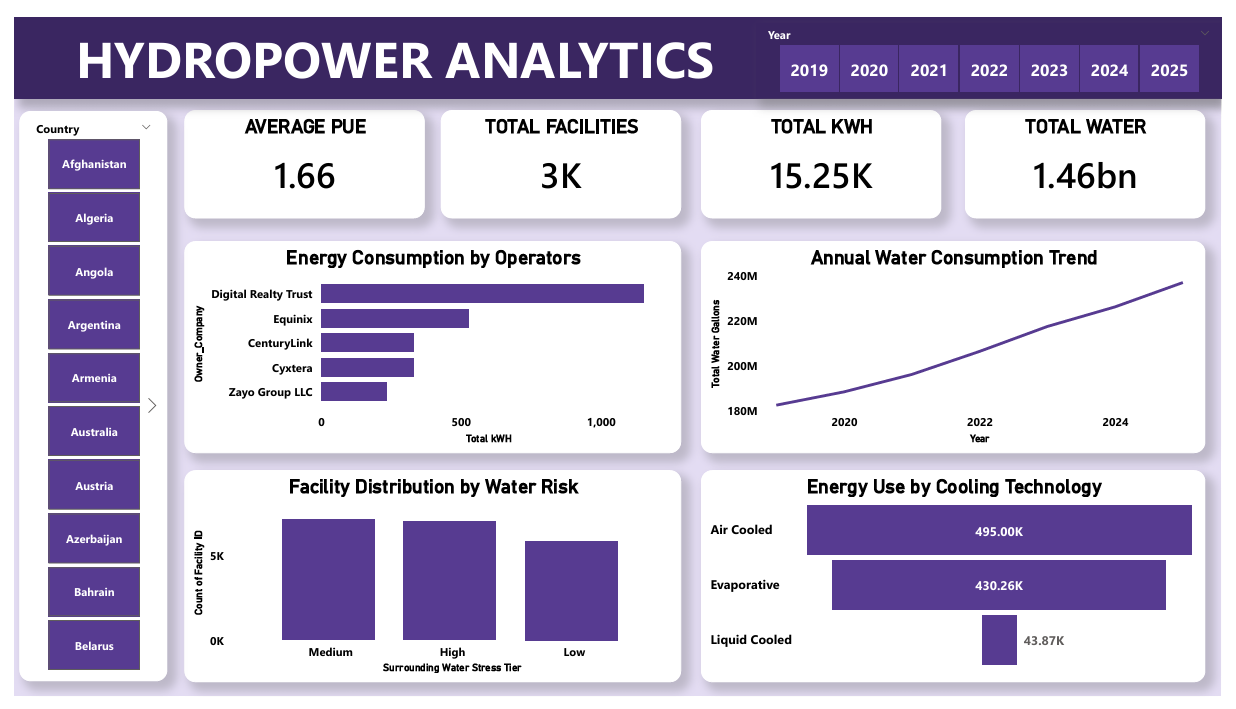

Layout of this report page (visuals, bound fields, positions):
{"tool":"powerbi","page":{"name":"Page 1","canvas":[1280,720],"ordinal":0},"visuals":[{"type":"cardVisual","title":"AVERAGE PUE","fields":{"Data":["Data_Centre_Hybrid.Avg PUE"]},"box":[180,98.3,255,115],"z":0},{"type":"textbox","box":[0,0,1280.8,85.8],"z":1000},{"type":"cardVisual","title":"TOTAL FACILITIES","fields":{"Data":["Data_Centre_Hybrid.Total Facilities"]},"box":[451.7,98.3,255,115],"z":2000},{"type":"cardVisual","title":"TOTAL KWH  ","fields":{"Data":["Data_Centre_Hybrid.Total kWH"]},"box":[728.3,98.3,255,115],"z":3000},{"type":"cardVisual","title":"TOTAL WATER ","fields":{"Data":["Data_Centre_Hybrid.Total Water Gallons"]},"box":[1008.3,98.3,255,115],"z":4000},{"type":"lineChart","title":"Annual Water Consumption Trend","fields":{"Category":["Data_Centre_Hybrid.Year"],"Y":["Data_Centre_Hybrid.Total Water Gallons"]},"box":[728.3,236.7,535,225],"z":5000},{"type":"clusteredBarChart","title":"Energy Consumption by Operators","fields":{"Y":["Data_Centre_Hybrid.Total kWH"],"Category":["Data_Centre_Hybrid.Owner_Company"]},"box":[180,236.7,526.7,225],"z":6000},{"type":"clusteredColumnChart","title":"Facility Distribution by Water Risk","fields":{"Category":["Data_Centre_Hybrid.Surrounding_Water_Stress_Tier"],"Y":["CountNonNull(Data_Centre_Hybrid.Facility_ID)"]},"box":[180,480,526.7,225],"z":7000},{"type":"funnel","title":"Energy Use by Cooling Technology","fields":{"Category":["Data_Centre_Hybrid.Cooling_System_Type"],"Y":["Sum(Data_Centre_Hybrid.Daily_Electricity_Usage_MWh)"]},"box":[728.3,480,535,225],"z":8000},{"type":"slicer","fields":{"Values":["Data_Centre_Hybrid.Year"]},"box":[786.1,4.9,493.9,81],"z":9000},{"type":"slicer","fields":{"Values":["Data_Centre_Hybrid.Country"]},"box":[4.9,98.8,157.1,605.6],"z":9001}]}

Visuals, with their boxes in screenshot pixels (x1, y1, x2, y2), scaled from the page's 1280x720 canvas onto the 1236x709 screenshot:
"AVERAGE PUE" cardVisual: 174:97:420:210
textbox: 0:0:1235:84
"TOTAL FACILITIES" cardVisual: 436:97:682:210
"TOTAL KWH  " cardVisual: 703:97:949:210
"TOTAL WATER " cardVisual: 974:97:1220:210
"Annual Water Consumption Trend" lineChart: 703:233:1220:455
"Energy Consumption by Operators" clusteredBarChart: 174:233:682:455
"Facility Distribution by Water Risk" clusteredColumnChart: 174:473:682:694
"Energy Use by Cooling Technology" funnel: 703:473:1220:694
slicer - Data_Centre_Hybrid.Year: 759:5:1235:85
slicer - Data_Centre_Hybrid.Country: 5:97:156:694
